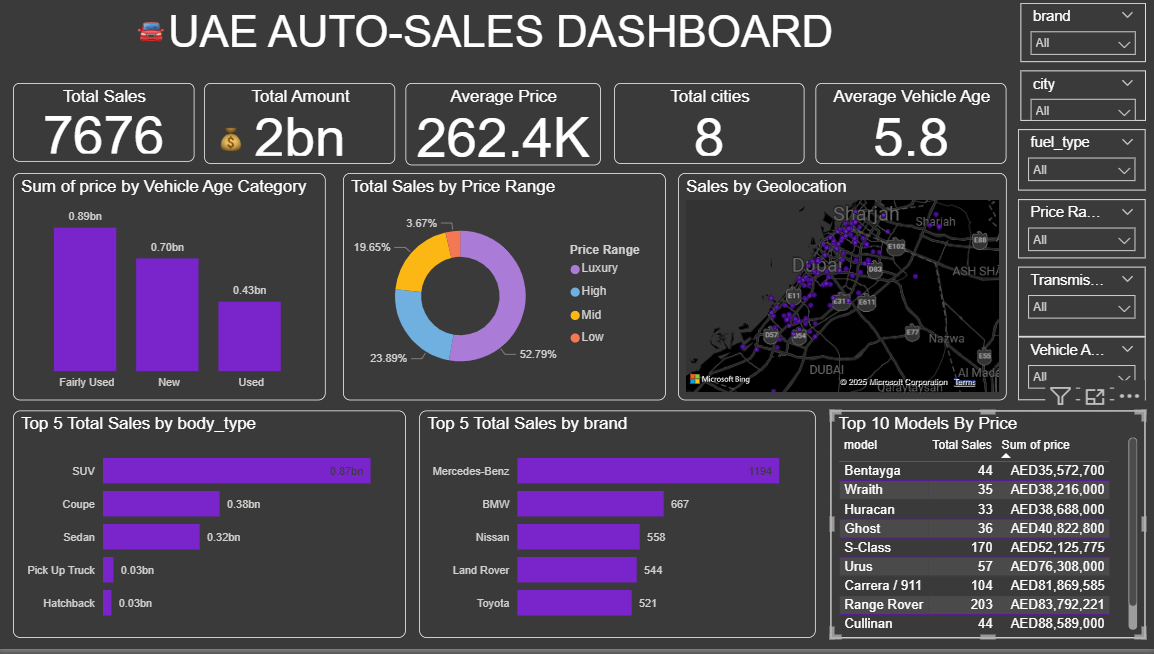

What the dashboard file says about the page in this screenshot:
{"tool":"powerbi","page":{"name":"Page 1","canvas":[1280,720],"ordinal":0},"visuals":[{"type":"card","title":"Total Sales","fields":{"Values":["car_dataset_uae.Total Sales"]},"box":[22,98.8,199,86.4],"z":0},{"type":"card","title":"Total Amount","fields":{"Values":["Sum(car_dataset_uae.  price  )"]},"box":[231.9,98.8,209.9,89.2],"z":1000},{"type":"card","title":"Average Vehicle Age","fields":{"Values":["car_dataset_uae.Average Vehicle Age"]},"box":[902.9,98.8,209.9,89.2],"z":2000},{"type":"card","title":"Average Price","fields":{"Values":["car_dataset_uae.Average Price"]},"box":[452.8,98.8,214.1,90.6],"z":3000},{"type":"card","title":"Total cities","fields":{"Values":["car_dataset_uae.Total Cities"]},"box":[682,98.8,208.6,89.2],"z":4000},{"type":"slicer","fields":{"Values":["car_dataset_uae.brand"]},"box":[1128,11,137.2,64.5],"z":5000},{"type":"slicer","fields":{"Values":["car_dataset_uae.city"]},"box":[1128,85.1,137.2,54.9],"z":6000},{"type":"slicer","fields":{"Values":["car_dataset_uae.fuel_type"]},"box":[1125.2,149.6,140,67.2],"z":7000},{"type":"slicer","fields":{"Values":["car_dataset_uae.Vehicle Age Category"]},"box":[1125.2,377.4,140,70],"z":8000},{"type":"slicer","fields":{"Values":["car_dataset_uae.Price Range"]},"box":[1125.2,226.4,140,64.5],"z":9000},{"type":"slicer","fields":{"Values":["car_dataset_uae.Transmission Type 2"]},"box":[1125.2,300.5,140,76.8],"z":10000},{"type":"columnChart","fields":{"Category":["car_dataset_uae.Vehicle Age Category"],"Y":["Sum(car_dataset_uae.  price  )"]},"box":[22,197.6,343.1,249.7],"z":11000},{"type":"barChart","title":"Top 5 Total Sales by body_type","fields":{"Category":["car_dataset_uae.body_type"],"Y":["Sum(car_dataset_uae.  price  )"]},"box":[22,458.3,430.9,249.7],"z":12000},{"type":"barChart","title":"Top 5 Total Sales by brand","fields":{"Category":["car_dataset_uae.brand"],"Y":["car_dataset_uae.Total Sales"]},"box":[467.9,458.3,435,249.7],"z":13000},{"type":"donutChart","fields":{"Category":["car_dataset_uae.Price Range"],"Y":["car_dataset_uae.Total Sales"]},"box":[384.2,197.6,354,249.7],"z":14000},{"type":"map","title":"Sales  by Geolocation","fields":{"Y":["car_dataset_uae.lat"],"X":["car_dataset_uae.long"]},"box":[752,197.6,360.9,249.7],"z":15000},{"type":"tableEx","title":"Top 10 Models By Price","fields":{"Values":["car_dataset_uae.model","car_dataset_uae.Total Sales","Sum(car_dataset_uae.  price  )"]},"box":[919.4,458.3,345.8,249.7],"z":16000},{"type":"textbox","box":[105.7,11,902.9,74.1],"z":17000},{"type":"image","box":[231.9,140,59,41.2],"z":18000},{"type":"image","box":[146.8,22,53.5,39.8],"z":19000}]}

Visuals, with their boxes in screenshot pixels (x1, y1, x2, y2), scaled from the page's 1280x720 canvas onto the 1154x654 screenshot:
"Total Sales" card: BBox(20, 90, 199, 168)
"Total Amount" card: BBox(209, 90, 398, 171)
"Average Vehicle Age" card: BBox(814, 90, 1003, 171)
"Average Price" card: BBox(408, 90, 601, 172)
"Total cities" card: BBox(615, 90, 803, 171)
slicer - car_dataset_uae.brand: BBox(1017, 10, 1141, 69)
slicer - car_dataset_uae.city: BBox(1017, 77, 1141, 127)
slicer - car_dataset_uae.fuel_type: BBox(1014, 136, 1141, 197)
slicer - car_dataset_uae.Vehicle Age Category: BBox(1014, 343, 1141, 406)
slicer - car_dataset_uae.Price Range: BBox(1014, 206, 1141, 264)
slicer - car_dataset_uae.Transmission Type 2: BBox(1014, 273, 1141, 343)
columnChart - car_dataset_uae.Vehicle Age Category x Sum(car_dataset_uae.  price  ): BBox(20, 179, 329, 406)
"Top 5 Total Sales by body_type" barChart: BBox(20, 416, 408, 643)
"Top 5 Total Sales by brand" barChart: BBox(422, 416, 814, 643)
donutChart - car_dataset_uae.Price Range x car_dataset_uae.Total Sales: BBox(346, 179, 666, 406)
"Sales  by Geolocation" map: BBox(678, 179, 1003, 406)
"Top 10 Models By Price" tableEx: BBox(829, 416, 1141, 643)
textbox: BBox(95, 10, 909, 77)
image: BBox(209, 127, 262, 165)
image: BBox(132, 20, 181, 56)
